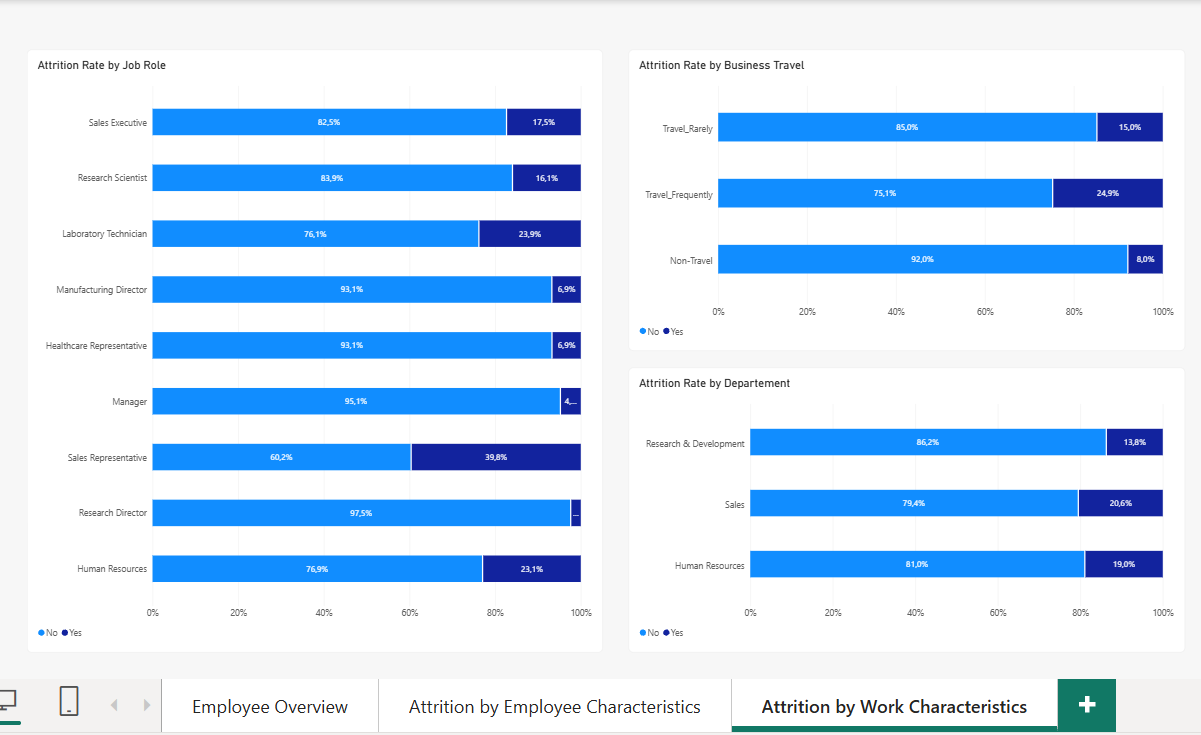

This screenshot's page, from the dashboard's own definition file:
{"tool":"powerbi","page":{"name":"Attrition by Work Characteristics","canvas":[1920,1080],"ordinal":2},"visuals":[{"type":"hundredPercentStackedBarChart","title":"Attrition Rate by Job Role","fields":{"Category":["HR_Employee_Attrition_Clean.JobRole"],"Series":["HR_Employee_Attrition_Clean.Attrition"],"Y":["HR_Employee_Attrition_Clean.Total Employees"]},"box":[42.9,78.7,916.2,959.1],"z":1000},{"type":"hundredPercentStackedBarChart","title":"Attrition Rate by Departement","fields":{"Category":["HR_Employee_Attrition_Clean.Department"],"Series":["HR_Employee_Attrition_Clean.Attrition"],"Y":["HR_Employee_Attrition_Clean.Total Employees"]},"box":[999.7,584.5,885.2,453.3],"z":2000},{"type":"hundredPercentStackedBarChart","title":"Attrition Rate by Business Travel","fields":{"Category":["HR_Employee_Attrition_Clean.BusinessTravel"],"Series":["HR_Employee_Attrition_Clean.Attrition"],"Y":["HR_Employee_Attrition_Clean.Total Employees"]},"box":[999.7,78.7,885.2,479.6],"z":2001}]}

Visuals, with their boxes on the page's 1920x1080 design canvas (x1, y1, x2, y2). These are canvas units, not pixel positions in the 1201x735 screenshot, which may show the page scaled, cropped or inside an application window:
"Attrition Rate by Job Role" hundredPercentStackedBarChart: l=43, t=79, r=959, b=1038
"Attrition Rate by Departement" hundredPercentStackedBarChart: l=1000, t=584, r=1885, b=1038
"Attrition Rate by Business Travel" hundredPercentStackedBarChart: l=1000, t=79, r=1885, b=558
